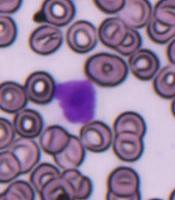M: (54, 76, 101, 125)
